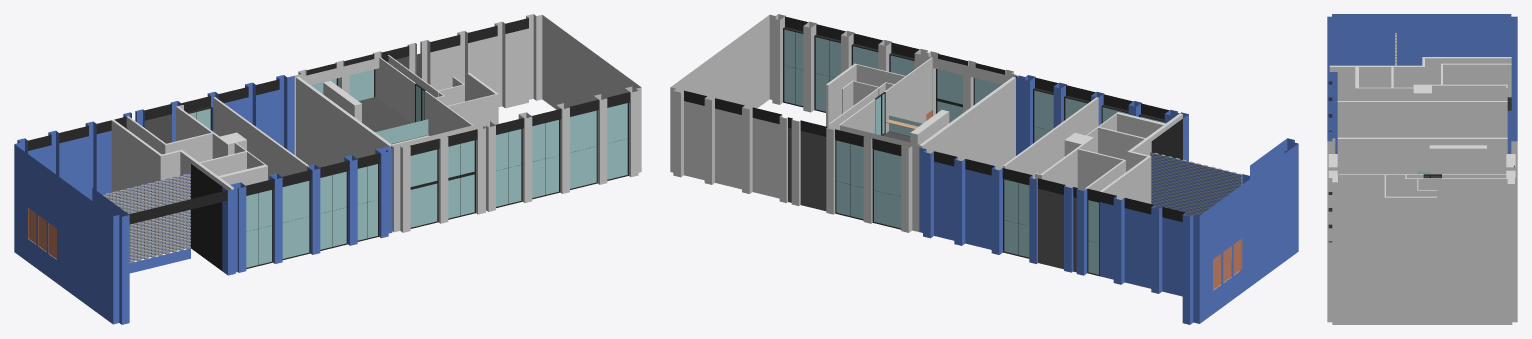
File: MSH_Torre-A_Planta-baja.fbx
3 views of the same model, side by side, from view 1: azimuth 30°, elevation 25°; view 2: azimuth 150°, elevation 25°; view 3: azimuth 270°, elevation 25° (orthographic). The views are drawn at different scales.
Visible parts, largest first — view 1: MSH_Piso_1_2, MSH_Muros_Lobby_T2.003, MSH_Laundry-vestibulo, MSH_Muros_Lobby, MSH_Muro_Cuadritos_A, MSH_Coworking_Lobby-A, MSH_Puertas-torre-A.004; view 2: MSH_Piso_1_2, MSH_Muros_Lobby_T2.003, MSH_Muros_Lobby, MSH_Laundry-vestibulo, MSH_Muro_Cuadritos_A, MSH_Coworking_Lobby-A, MSH_Puertas-torre-A.004; view 3: MSH_Piso_1_2, MSH_Muros_Lobby, MSH_Laundry-vestibulo, MSH_Coworking_Lobby-A.
Boxes of the visible parts, bbox=[...] form: MSH_Piso_1_2: bbox=[14, 14, 641, 324]; MSH_Muros_Lobby_T2.003: bbox=[125, 69, 628, 268]; MSH_Laundry-vestibulo: bbox=[111, 97, 308, 191]; MSH_Muros_Lobby: bbox=[296, 55, 498, 167]; MSH_Muro_Cuadritos_A: bbox=[103, 174, 190, 262]; MSH_Coworking_Lobby-A: bbox=[323, 81, 428, 144]; MSH_Puertas-torre-A.004: bbox=[28, 207, 56, 259]; MSH_Piso_1_2: bbox=[670, 14, 1298, 324]; MSH_Muros_Lobby_T2.003: bbox=[783, 28, 1164, 276]; MSH_Muros_Lobby: bbox=[826, 57, 1015, 170]; MSH_Laundry-vestibulo: bbox=[1003, 97, 1182, 203]; MSH_Muro_Cuadritos_A: bbox=[1150, 152, 1242, 216]; MSH_Coworking_Lobby-A: bbox=[883, 110, 949, 144]; MSH_Puertas-torre-A.004: bbox=[1213, 238, 1242, 290]; MSH_Piso_1_2: bbox=[1327, 14, 1517, 324]; MSH_Muros_Lobby: bbox=[1337, 137, 1507, 247]; MSH_Laundry-vestibulo: bbox=[1329, 57, 1511, 137]; MSH_Coworking_Lobby-A: bbox=[1417, 145, 1486, 174].
Size of the model in its own units: 4244 by 830 by 1460.
